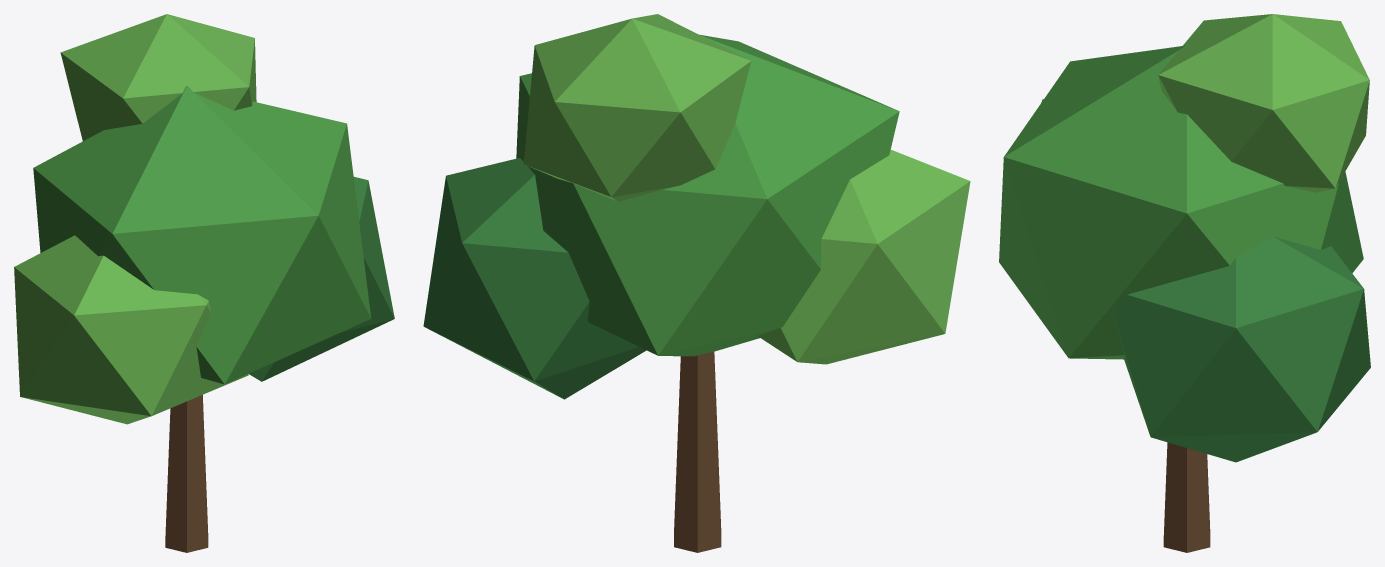
Rendered from tree_oak.glb.
3 renders of one model, left to right at view 1: azimuth 30°, elevation 25°; view 2: azimuth 150°, elevation 25°; view 3: azimuth 270°, elevation 25°, orthographic. The views are drawn at different scales.
Parts seen in each view (by area): view 1: tree_oak; view 2: tree_oak; view 3: tree_oak.
Boxes of the visible parts, x1,y1,x2,y2 form: tree_oak: (14,14,394,552); tree_oak: (423,14,970,552); tree_oak: (999,14,1370,552).
Bounding box in the file's own units: 0.4094 × 0.4852 × 0.3041.
